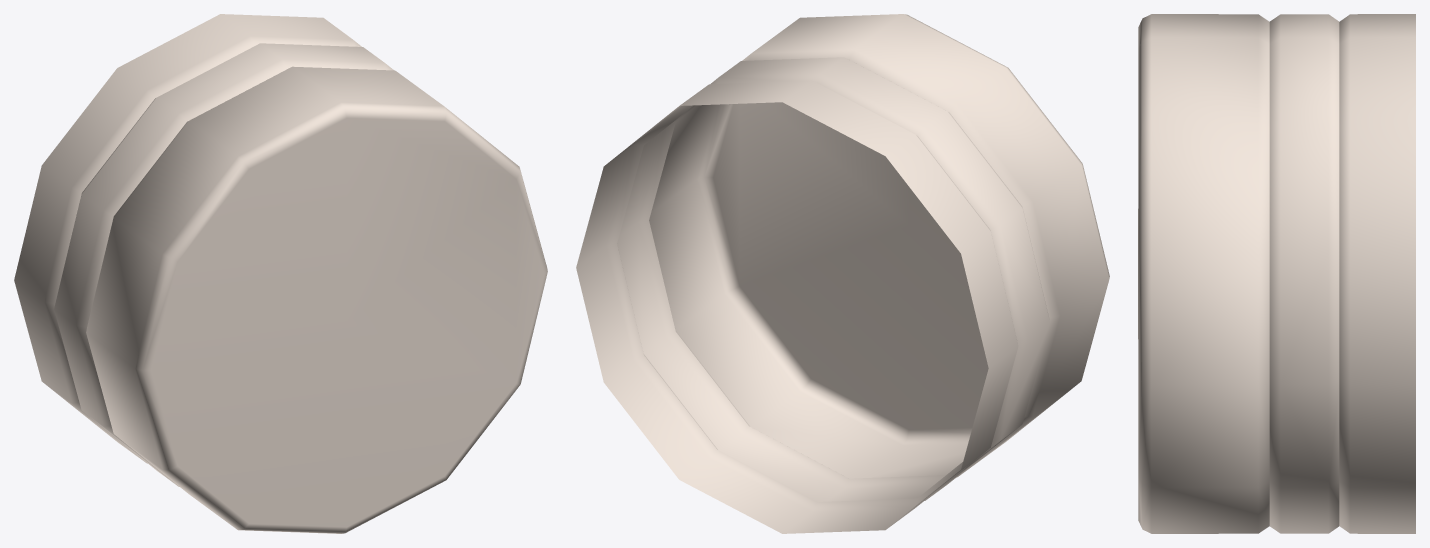
File: MeshRobothorSaltPepperShakerBnyd_0_GeomSubset_1.obj
3 views of the same model, side by side, from view 1: azimuth 30°, elevation 25°; view 2: azimuth 150°, elevation 25°; view 3: azimuth 270°, elevation 25° (orthographic). The views are drawn at different scales.
Visible parts, largest first — view 1: MeshRobothorSaltPepperShakerBnyd_0_GeomSubset_1; view 2: MeshRobothorSaltPepperShakerBnyd_0_GeomSubset_1; view 3: MeshRobothorSaltPepperShakerBnyd_0_GeomSubset_1.
Part boxes in pixels (x1,y1,x2,y2): MeshRobothorSaltPepperShakerBnyd_0_GeomSubset_1: [14, 14, 547, 533]; MeshRobothorSaltPepperShakerBnyd_0_GeomSubset_1: [576, 14, 1109, 533]; MeshRobothorSaltPepperShakerBnyd_0_GeomSubset_1: [1138, 14, 1415, 533].
Size of the model in its own units: 0.0322 by 0.0322 by 0.0171.
1 material, 1 textured.
